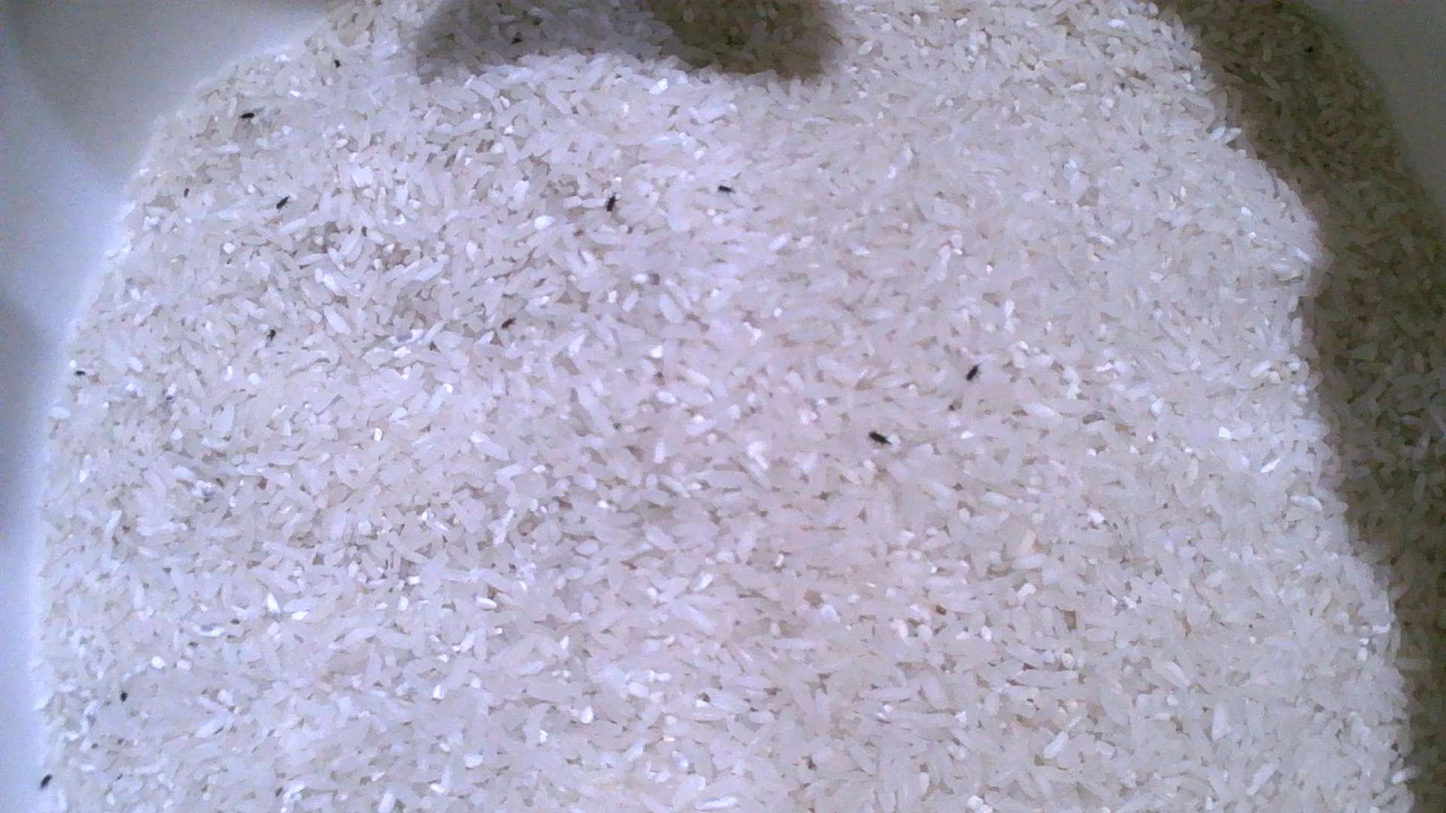Sitophilus-Oryzae: (868, 431, 891, 444), (38, 773, 53, 790), (966, 364, 980, 380), (605, 194, 617, 212), (275, 196, 289, 209), (500, 317, 515, 329), (239, 111, 255, 119)
